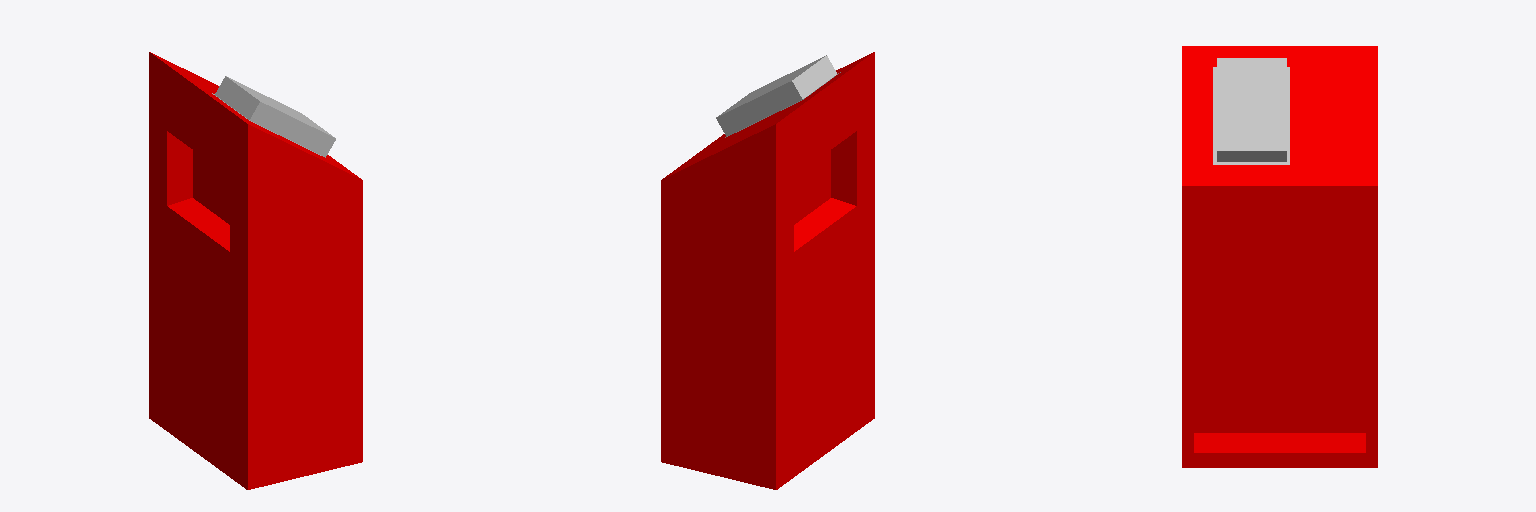
Rendered from waiterStation.obj.
The picture shows the model from 3 angles: view 1: azimuth 30°, elevation 25°; view 2: azimuth 150°, elevation 25°; view 3: azimuth 270°, elevation 25°; orthographic projection.
Parts seen in each view (by area): view 1: HostStand.001_Cube.036; view 2: HostStand.001_Cube.036; view 3: HostStand.001_Cube.036.
Part boxes in pixels (x1,y1,x2,y2): HostStand.001_Cube.036: (149, 52, 362, 489); HostStand.001_Cube.036: (661, 52, 874, 489); HostStand.001_Cube.036: (1182, 46, 1377, 467).
Size of the model in its own units: 0.1577 by 0.4818 by 0.2334.